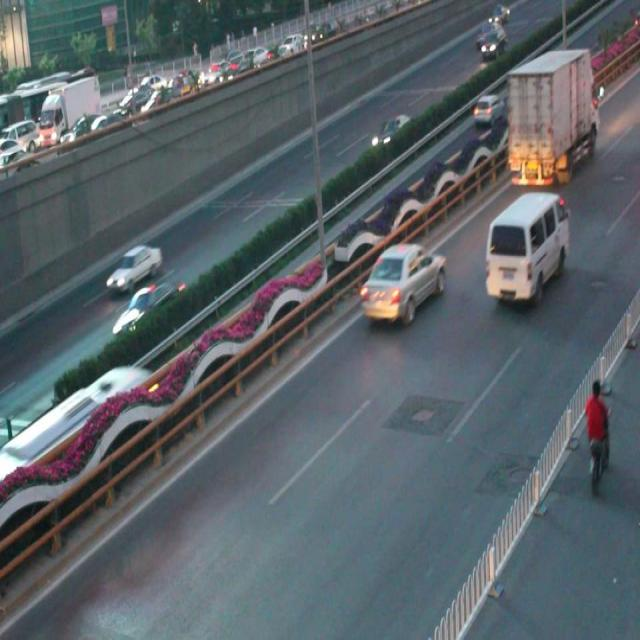bus: (506, 50, 593, 184)
car: (361, 244, 446, 326), (112, 282, 184, 334), (105, 242, 163, 290), (369, 111, 408, 153), (472, 91, 502, 126)
truck: (484, 192, 569, 300)
van: (1, 368, 156, 484)
